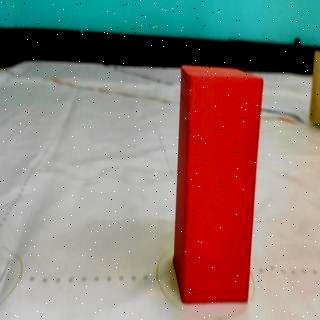redbox: (177, 66, 262, 304)
